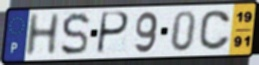0: (169, 9, 198, 53)
9: (134, 10, 160, 54)
C: (198, 9, 232, 51)
H: (23, 12, 62, 59)
P: (94, 10, 131, 56)
S: (59, 11, 91, 58)
